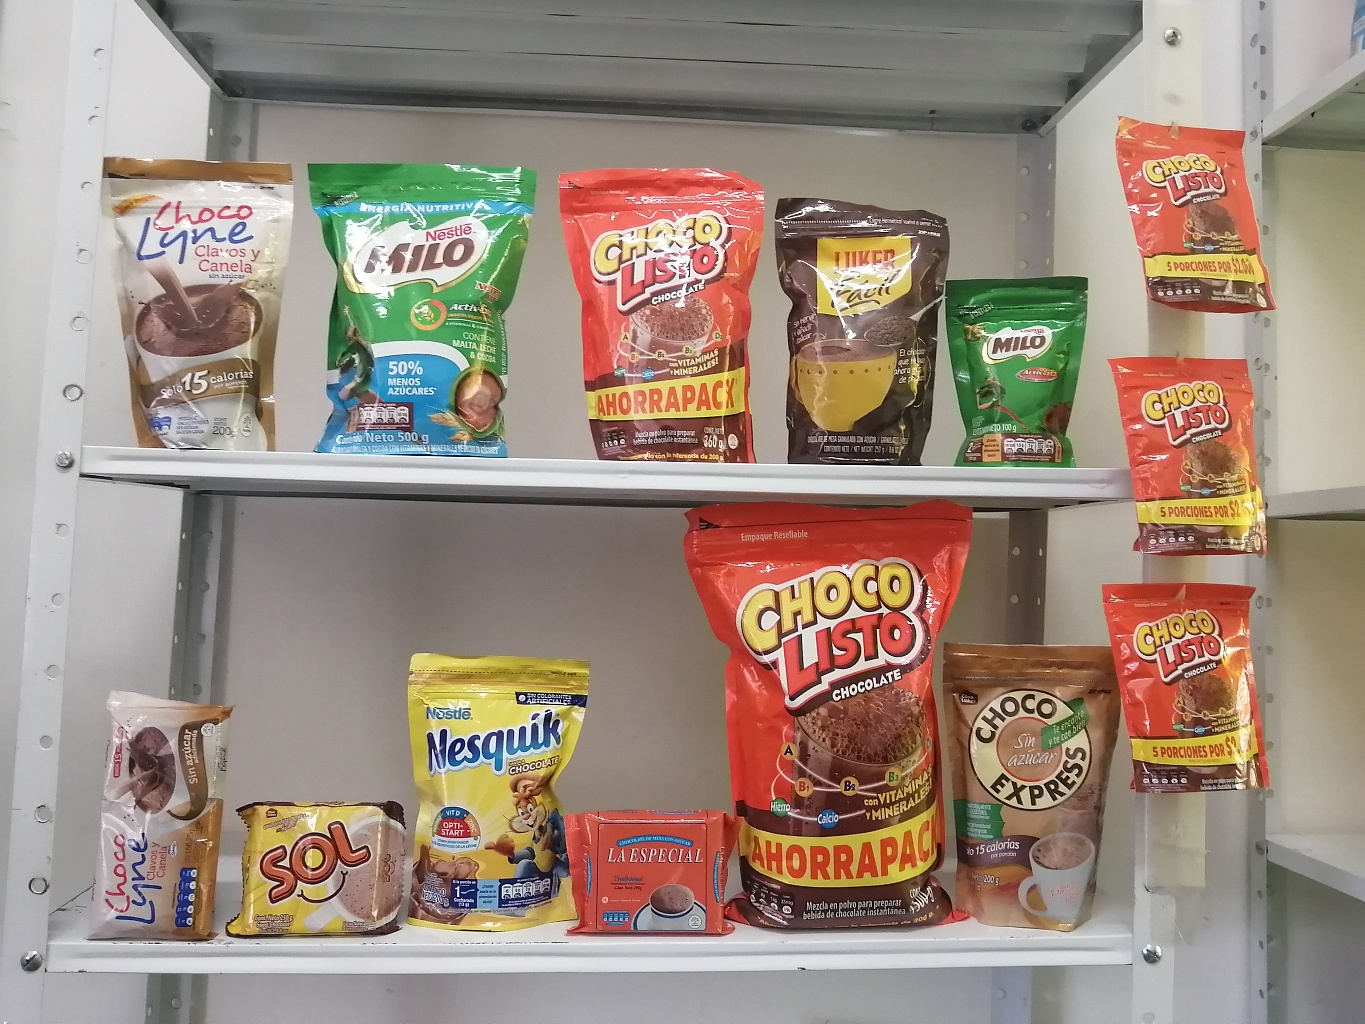COL0170103DYP1,500: (671, 490, 991, 944)
COL0170103DYP36000: (544, 139, 771, 484)
COL0170203DYP10000: (920, 248, 1103, 473)
COL0170205DYP50000: (295, 139, 542, 465)
COL0170303DYP20000: (388, 631, 591, 939)
